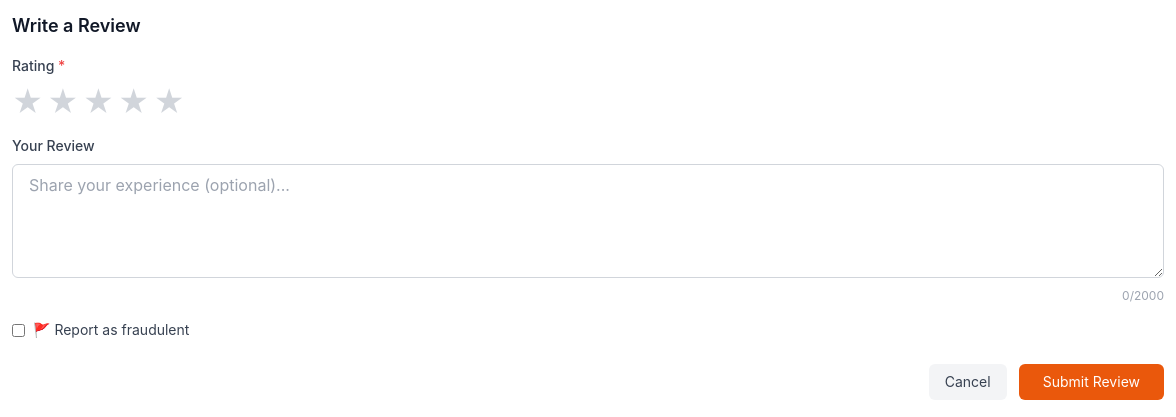
ReviewForm › Star Rating › shows singular "star" for rating of 1
Click the radio button named "1 star" at (28, 102), box [12,84,43,120]
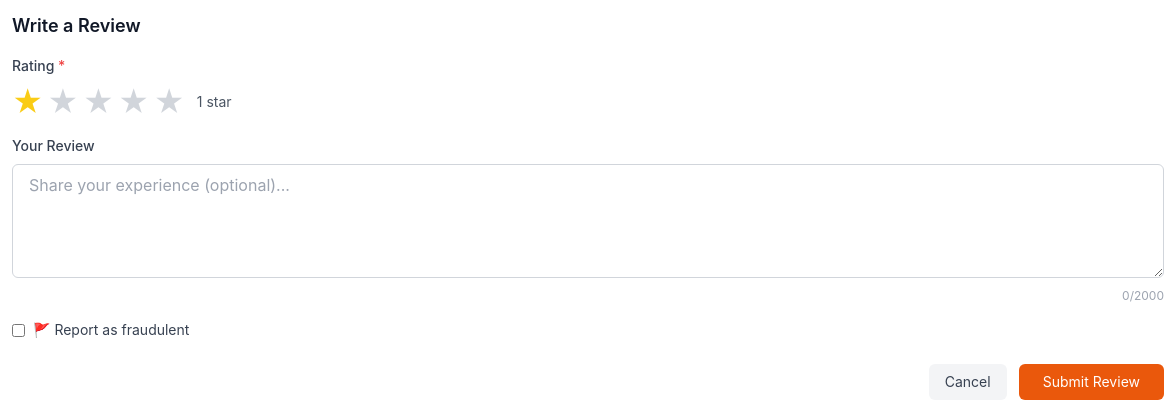
Expected: the text "1 star" is shown, [197,92,232,112]
